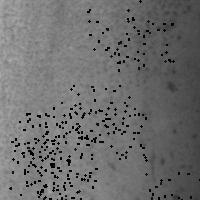pitted_surface: (1, 1, 122, 174), (124, 1, 194, 200), (87, 0, 146, 59), (69, 85, 128, 143), (9, 143, 69, 200), (26, 102, 86, 159), (42, 127, 99, 185), (87, 102, 145, 159), (116, 17, 172, 69), (11, 113, 69, 163), (26, 157, 83, 200), (40, 168, 95, 200), (145, 172, 199, 200)
